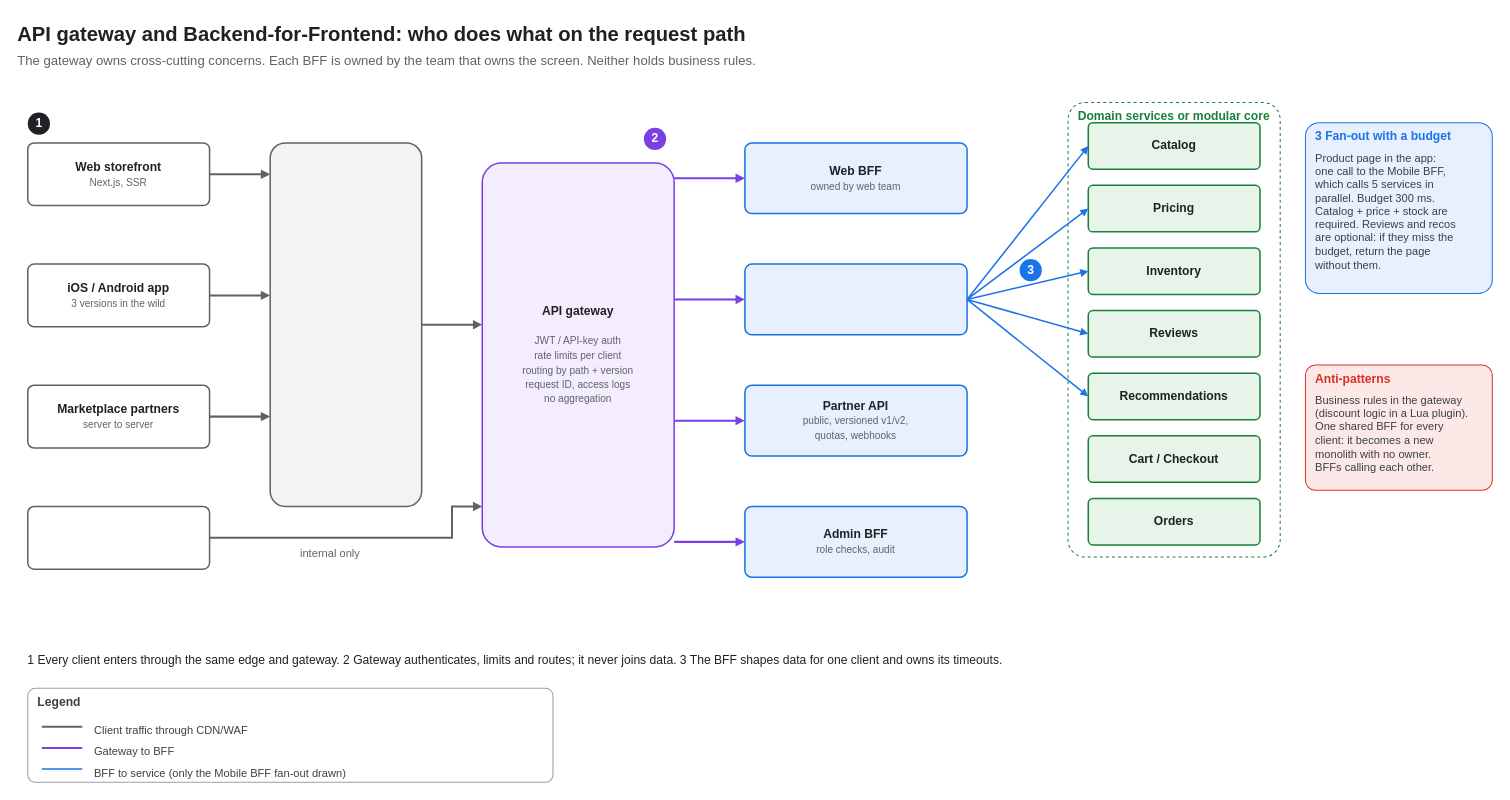
Some shapes in this 1510 by 800 pixel diagram are drawn without their labels. Each missing label, with the centre of its shape:
Back-office staff, SSO: point 118,537
CDN + WAF cache, bot rules, TLS: point 345,324
Mobile BFF owned by app team, keeps old app versions working: point 855,299
